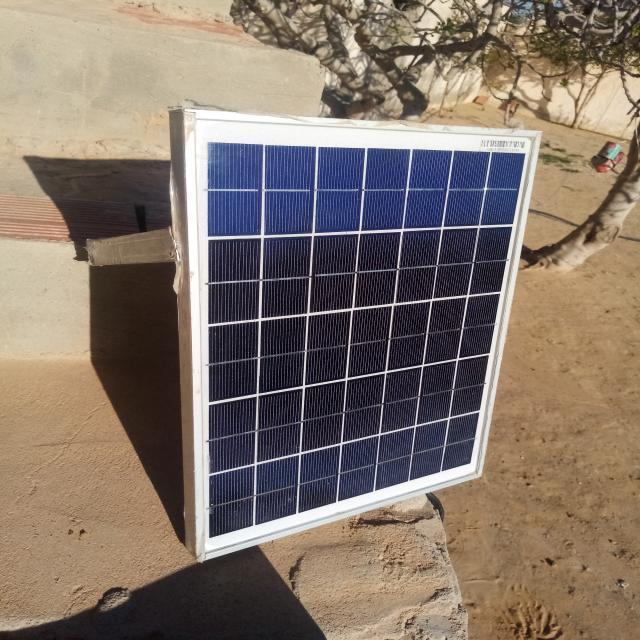Normal Solar Panel: (185, 109, 544, 558)
